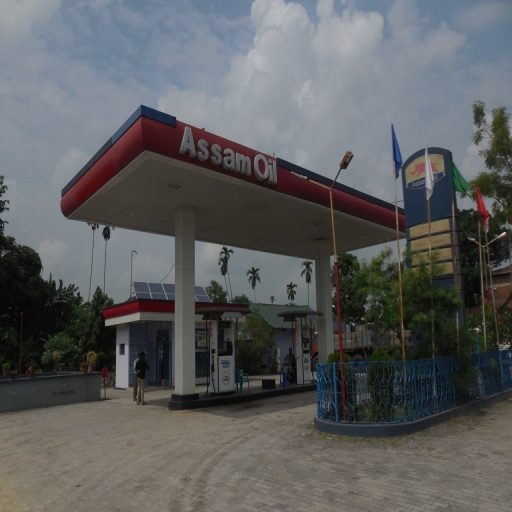roof: (61, 104, 415, 267)
